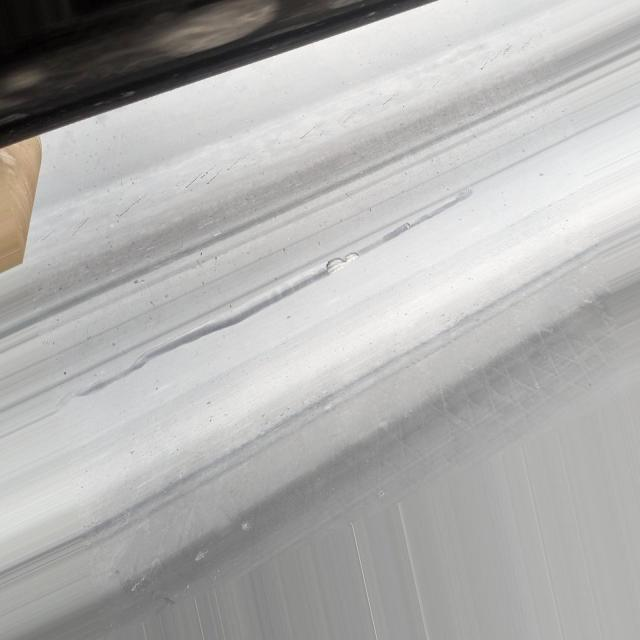Tear: (322, 242, 367, 283)
impact damage: (76, 183, 480, 406)
